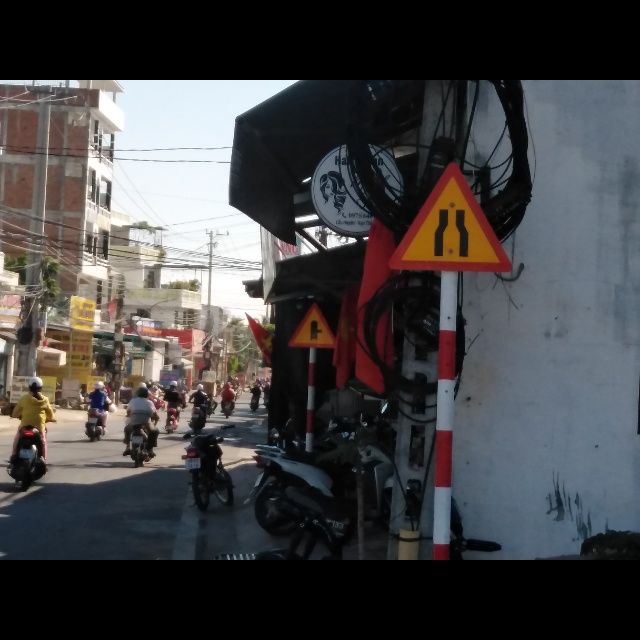Giao nhau với đường không ưu tiên: (287, 300, 338, 348)
Đường bị hẹp cả hai bên: (386, 159, 515, 274)
